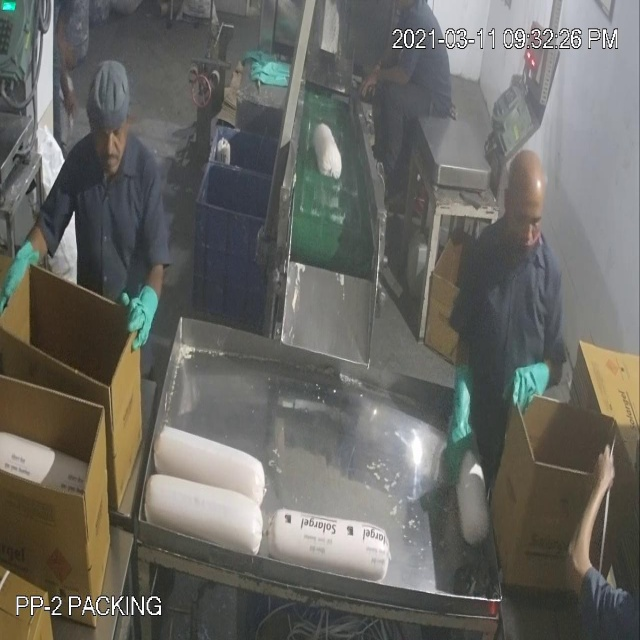Guantes: (435, 355, 486, 486), (120, 276, 167, 370), (0, 232, 51, 313), (497, 353, 555, 423)
Sin_guantes: (555, 436, 626, 600), (357, 49, 410, 105)
